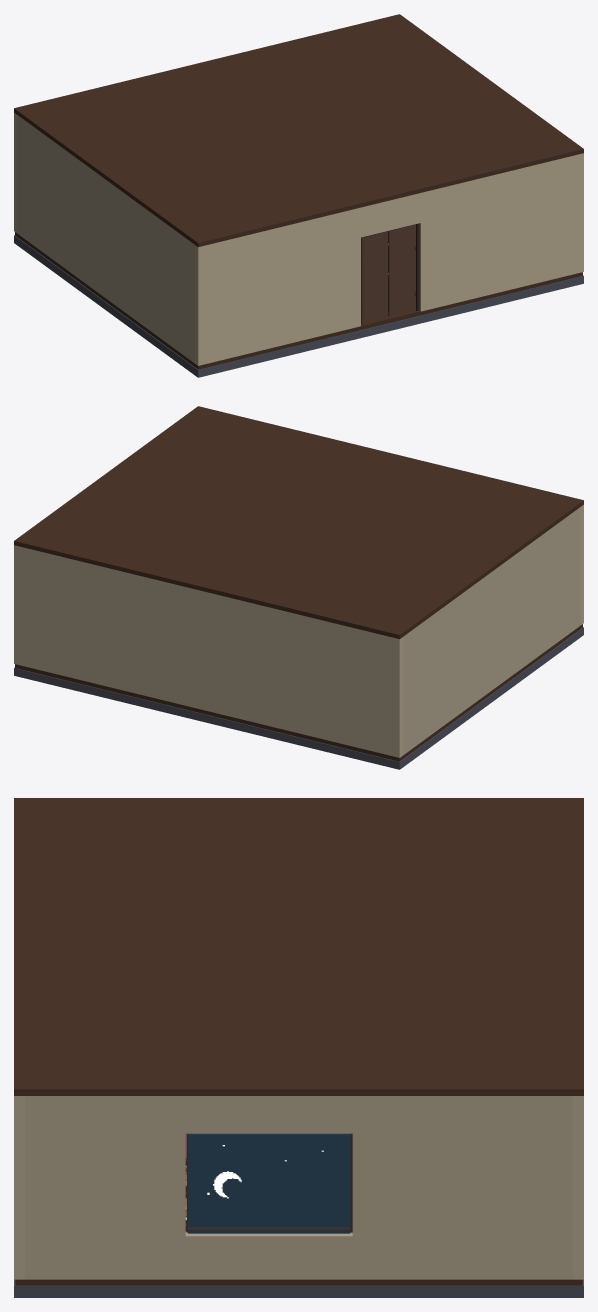
The model's file is 万象酒馆-主卧.glb.
3 views of the same model, one above another, from view 1: azimuth 30°, elevation 25°; view 2: azimuth 150°, elevation 25°; view 3: azimuth 270°, elevation 25° (orthographic). The views are drawn at different scales.
Parts seen in each view (by area): view 1: Guest_Room_Voxels; view 2: Guest_Room_Voxels; view 3: Guest_Room_Voxels.
Boxes of the visible parts, left/top/right/bottom form: Guest_Room_Voxels: left=14, top=14, right=583, bottom=377; Guest_Room_Voxels: left=14, top=406, right=583, bottom=769; Guest_Room_Voxels: left=14, top=798, right=583, bottom=1297.
Bounding box in the file's own units: 11.56 × 3.86 × 9.56.
